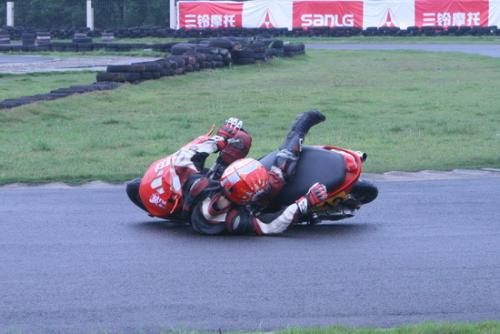fall: (128, 97, 360, 244)
